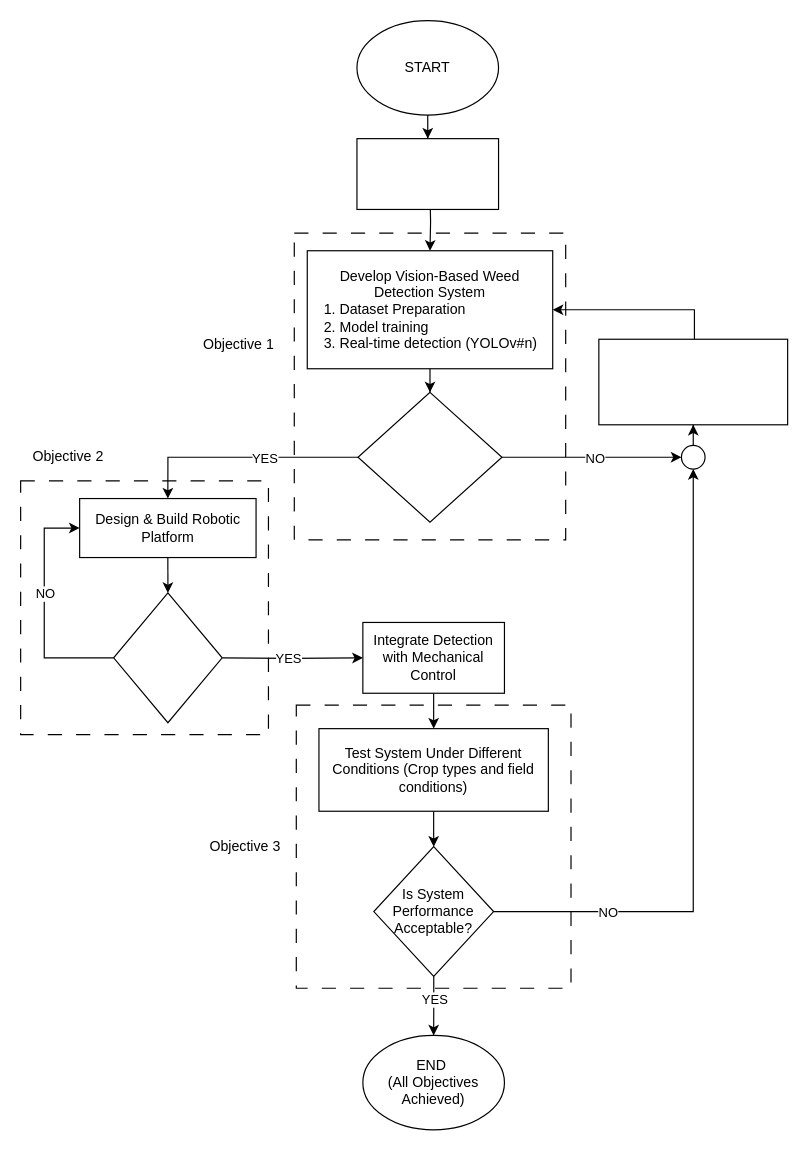
Some shapes in this 808 by 1151 pixel diagram are drawn without their labels. The centre of each missing label's shape, as x and y in pixels:
Define System Requirements: point 427,173
Does robot move accurately?: point 167,657
Is Weed Detected Accurately?: point 429,456
Retrain Model - Adjust/Gather Dataset - Adjust hyperparameters: point 693,381
